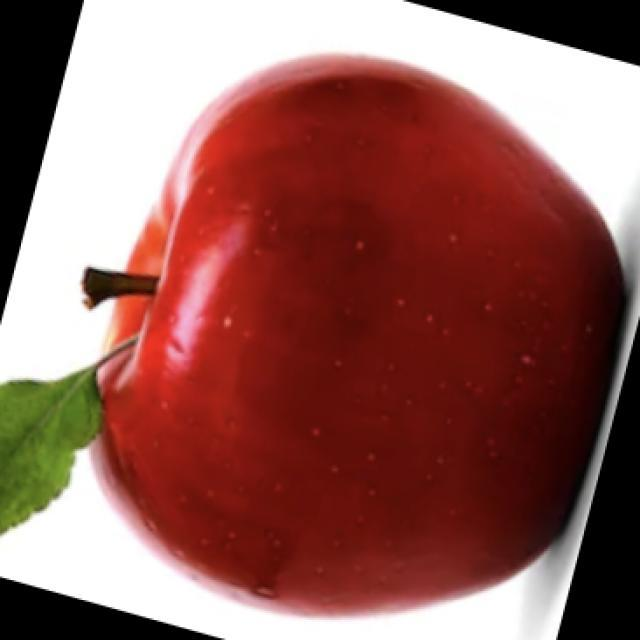Fresh Apple: (96, 61, 640, 620)
